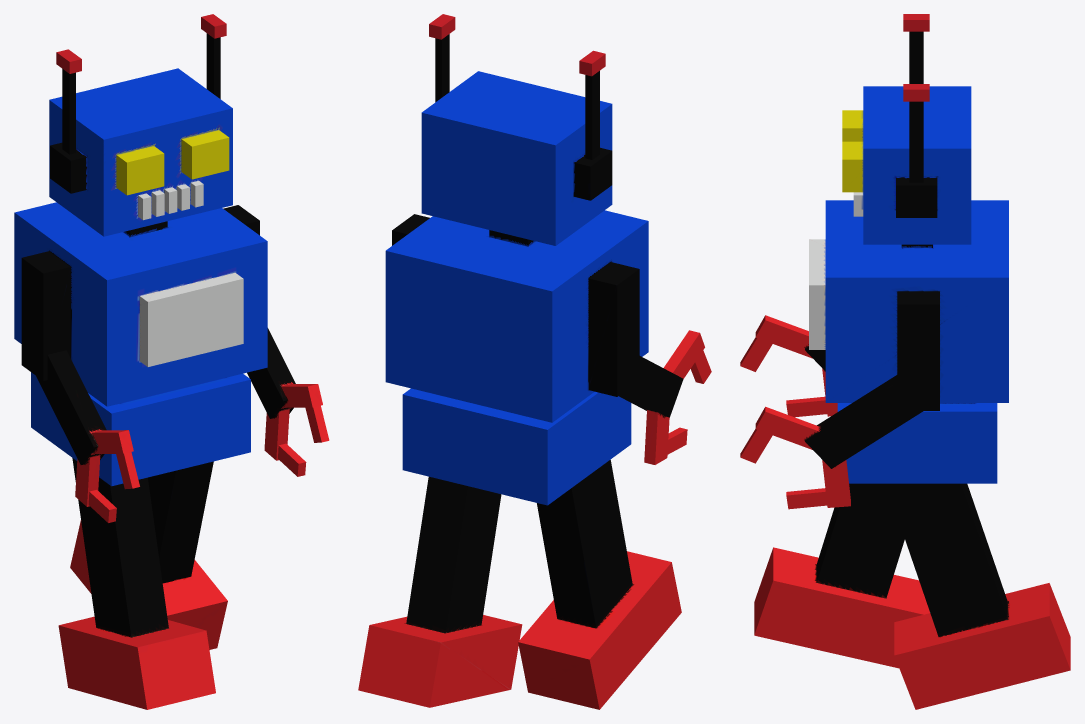
File: asset.glb
3 views of the same model, side by side, from view 1: azimuth 30°, elevation 25°; view 2: azimuth 150°, elevation 25°; view 3: azimuth 270°, elevation 25° (orthographic). The views are drawn at different scales.
Visible parts, largest first — view 1: node_id51, node_id49, node_id57, node_id53, node_id55; view 2: node_id51, node_id49, node_id57; view 3: node_id51, node_id57, node_id49, node_id53, node_id55.
Part boxes in pixels (box(x1,y1,x2,y2)): node_id51: box(14, 68, 267, 486); node_id49: box(21, 33, 295, 637); node_id57: box(56, 14, 329, 709); node_id53: box(138, 180, 243, 366); node_id55: box(116, 130, 229, 195); node_id51: box(385, 71, 648, 505); node_id49: box(392, 34, 683, 633); node_id57: box(358, 14, 711, 709); node_id51: box(825, 86, 1008, 483); node_id57: box(740, 14, 1070, 709); node_id49: box(805, 31, 1007, 636); node_id53: box(809, 192, 863, 349); node_id55: box(842, 110, 863, 192).
Bounding box in the file's own units: 0.1292 × 0.3584 × 0.1724.
5 materials, 5 textured.
